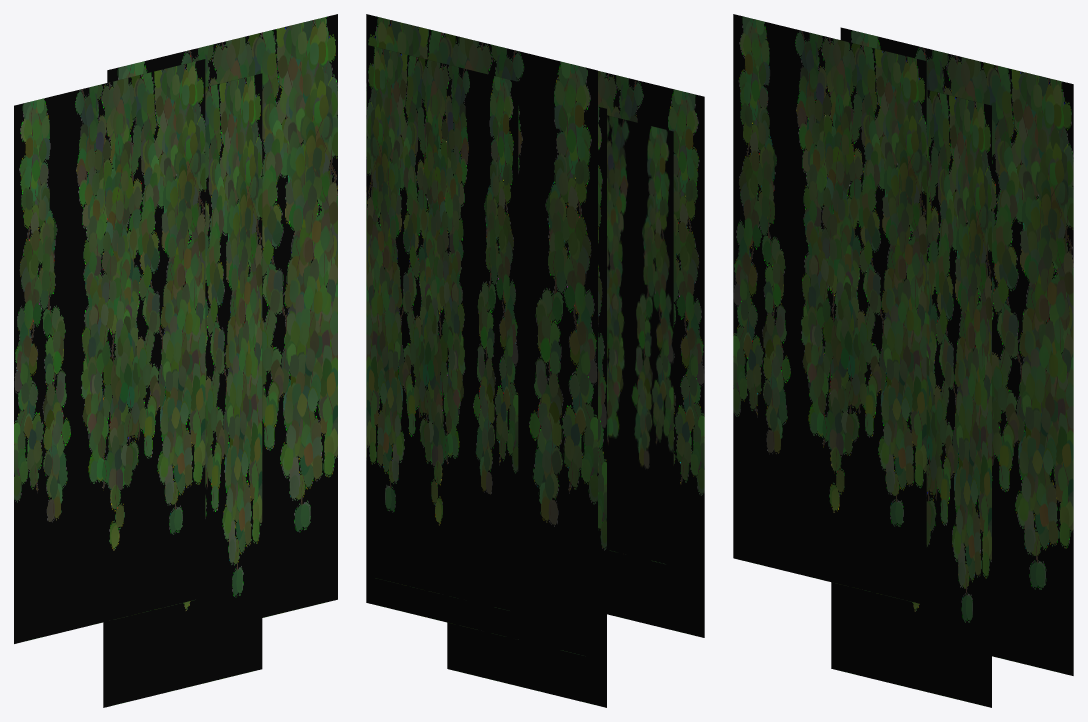
File: Prop_Vine1_LOD1.gltf
The picture shows the model from 3 angles, left to right: view 1: azimuth 30°, elevation 25°; view 2: azimuth 150°, elevation 25°; view 3: azimuth 330°, elevation 25°; orthographic projection.
Parts seen in each view (by area): view 1: Prop_Vine1_LOD1; view 2: Prop_Vine1_LOD1; view 3: Prop_Vine1_LOD1.
Boxes of the visible parts, box(x1,y1,x2,y2) form: Prop_Vine1_LOD1: box(14, 14, 337, 707); Prop_Vine1_LOD1: box(366, 14, 704, 707); Prop_Vine1_LOD1: box(733, 14, 1073, 707).
Bounding box in the file's own units: 1.42 × 2.6 × 0.1451.
1 material, 1 textured.
